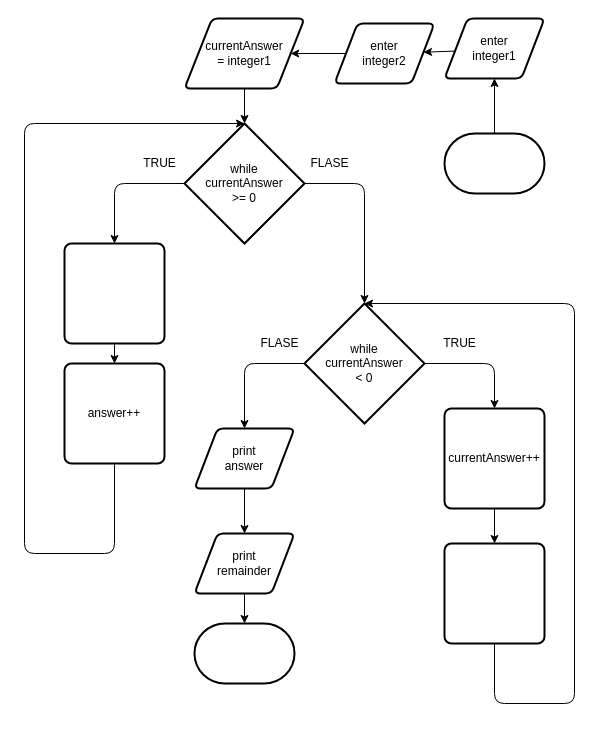
The diagram is 600 pixels wide and 729 high, and some of its shapes have lost their labels. The centre of each missing label's shape, as x and y in pixels:
"currnterAnswer = currentAnswer - integer2" goes at (114,293).
"remainder++" goes at (494,593).
"Start" goes at (494,163).
"Stop" goes at (244,653).
